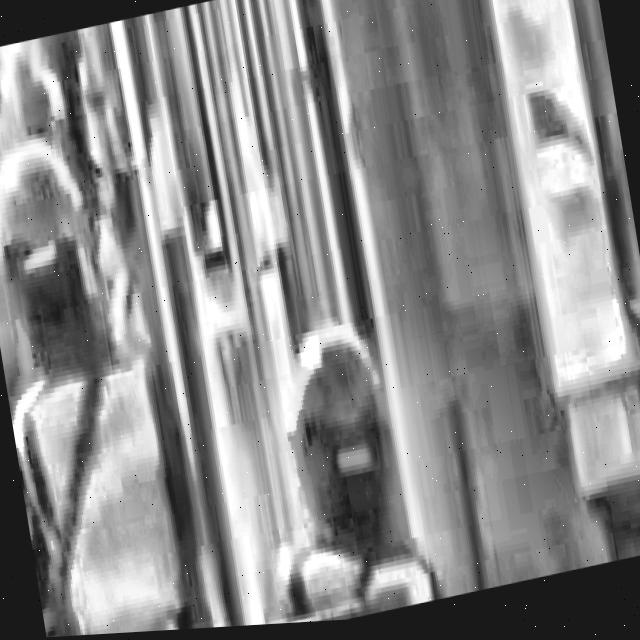Kereta: (32, 0, 636, 639)
Lokomotif: (477, 0, 640, 581)
Lori: (0, 0, 485, 640)
